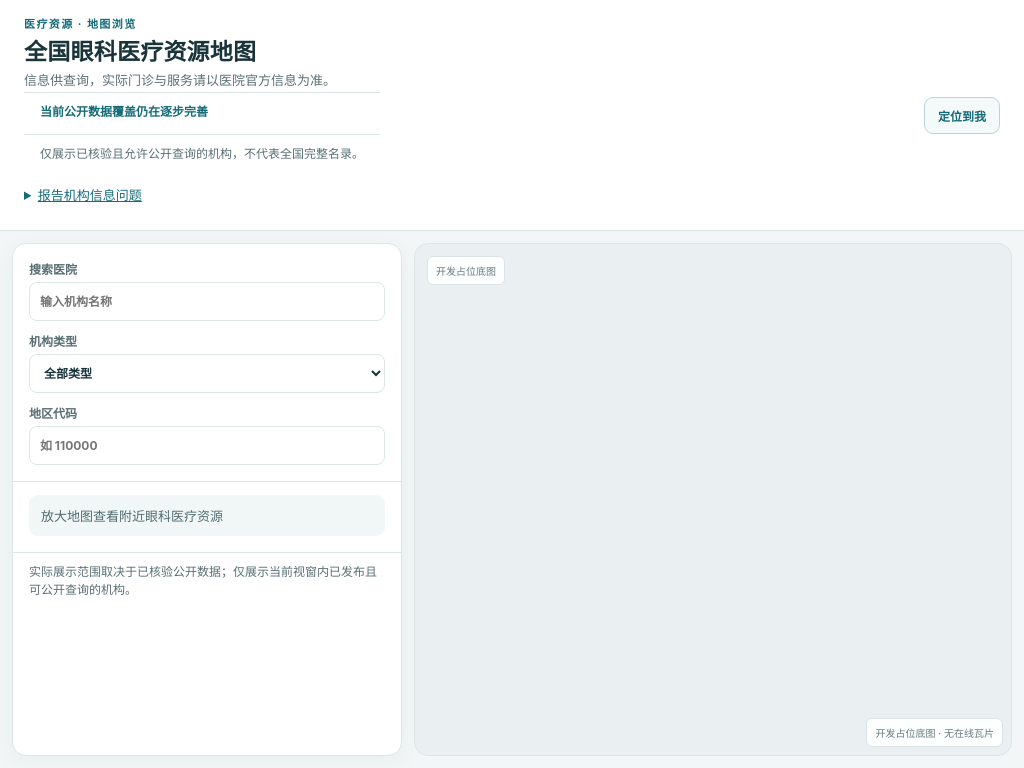
Test: EyeHospitalsClient › shows the timeout state and leaves manual browsing available
The image size is (1024, 768).
What coordinates should you click on to do the following:
click the button "定位到我"
I would click on:
 (962, 116)
Its box is 924,97 -> 1000,134.
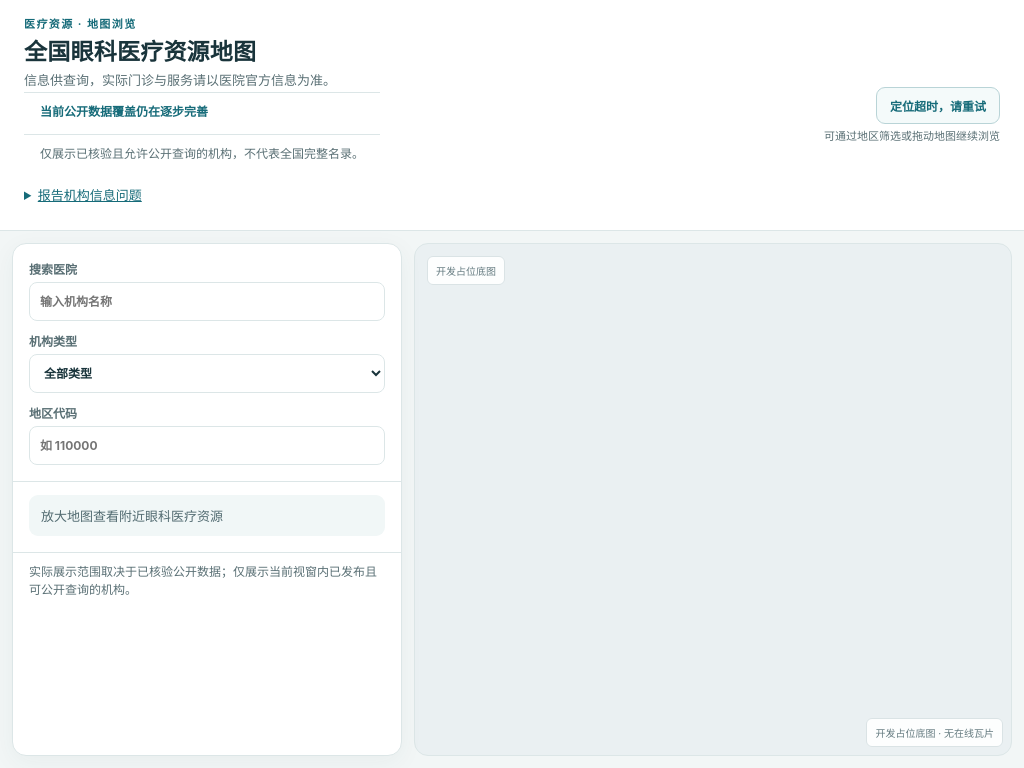
Expected: the button "定位超时，请重试" is shown, 876,86 -> 1000,124
Expected: the text "可通过地区筛选或拖动地图继续浏览" is shown, 824,128 -> 1000,144
